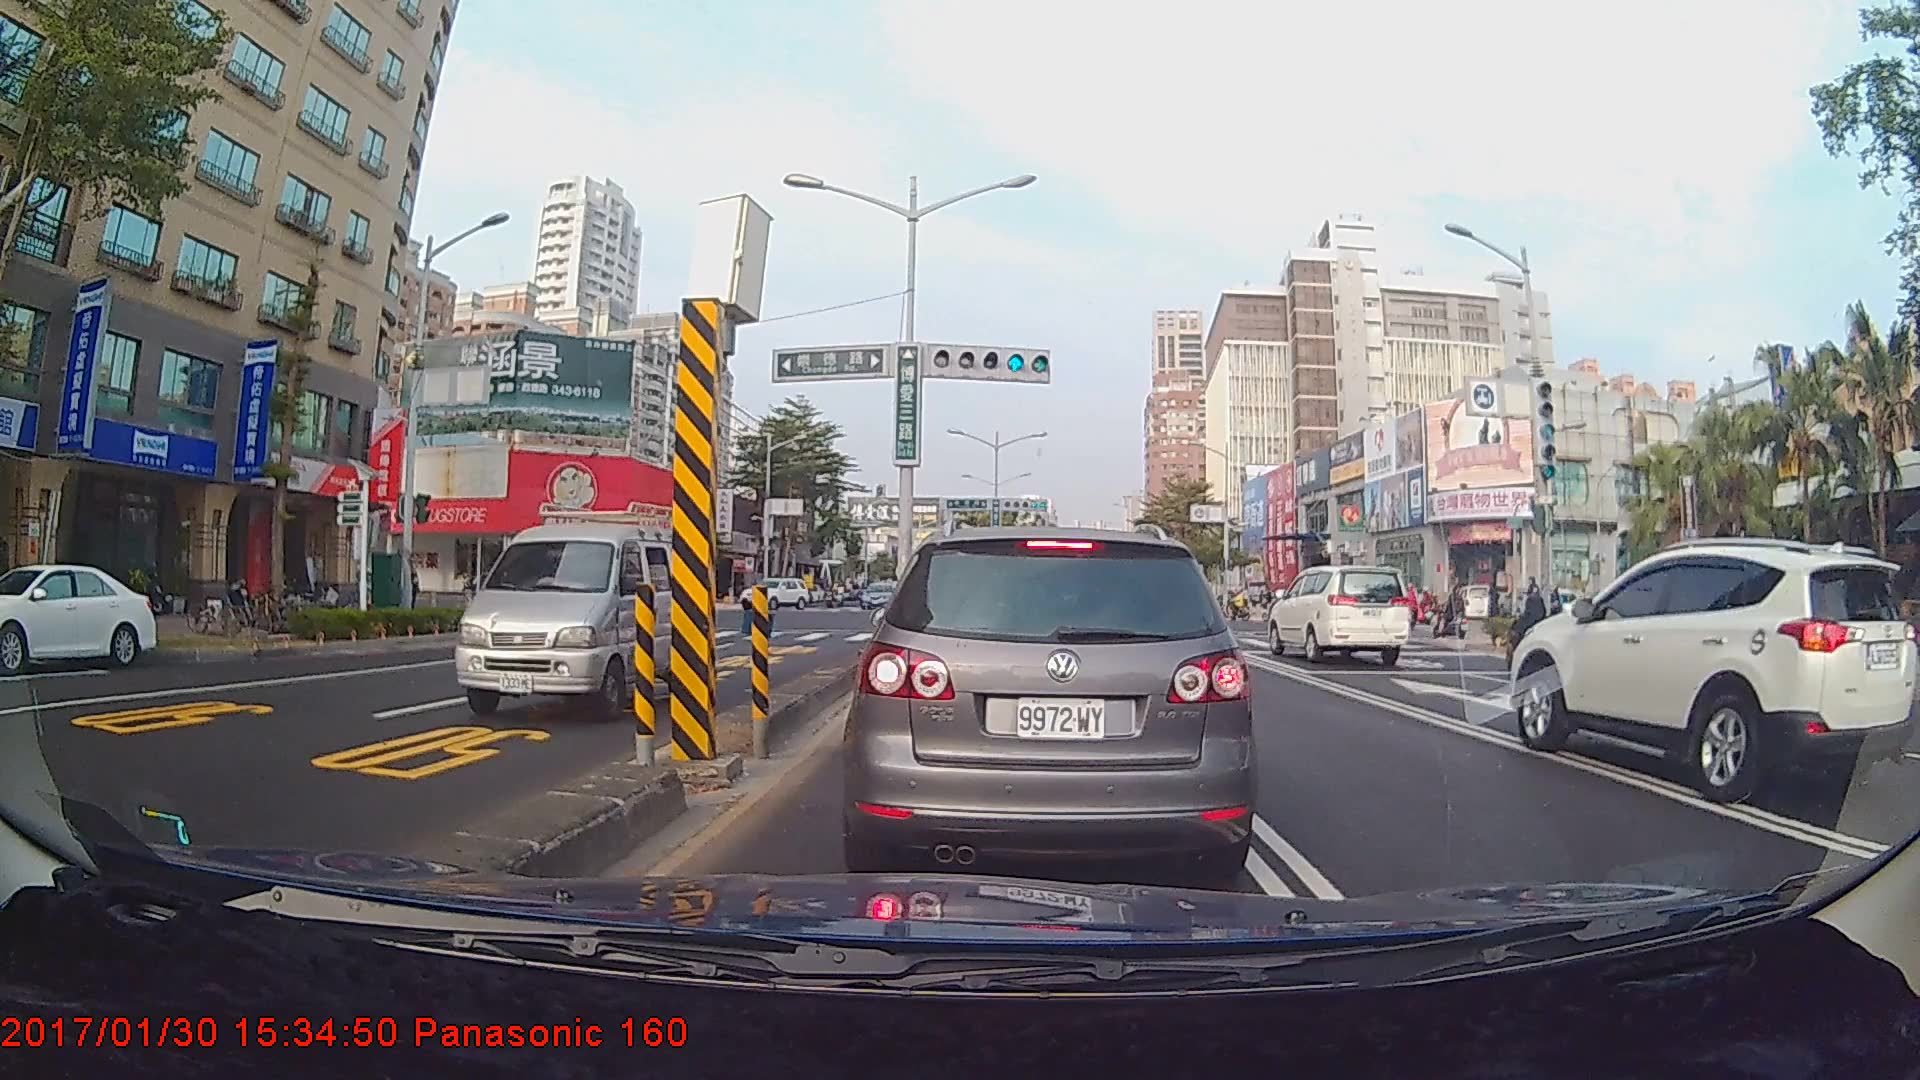pedestrian: (1487, 579, 1508, 637)
rider: (1436, 582, 1473, 646)
vehicle: (855, 520, 1250, 875), (1509, 537, 1918, 804), (452, 500, 713, 722), (0, 561, 158, 671), (1264, 563, 1412, 663), (859, 579, 899, 610)
